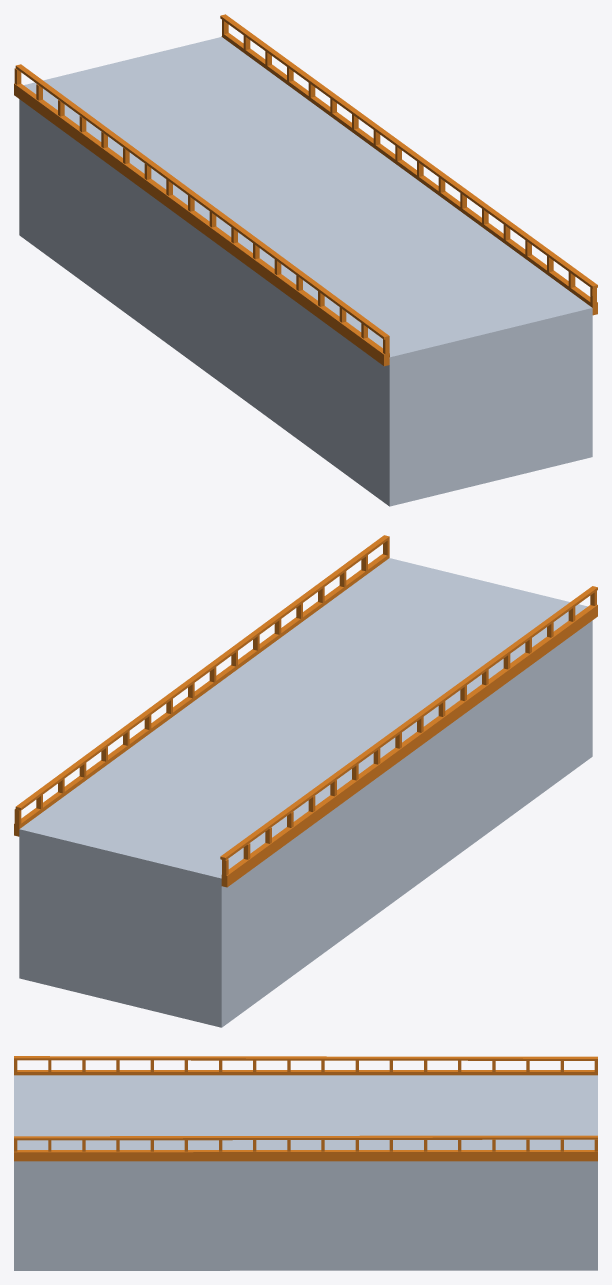
The model's file is Platform_Bridge.fbx.
The picture shows the model from 3 angles, top to bottom: view 1: azimuth 30°, elevation 25°; view 2: azimuth 150°, elevation 25°; view 3: azimuth 270°, elevation 25°; orthographic projection. The views are drawn at different scales.
Parts seen in each view (by area): view 1: Platform_Bridge_2; view 2: Platform_Bridge_2; view 3: Platform_Bridge_2.
Part boxes in pixels (x1,y1,x2,y2): Platform_Bridge_2: (14, 14, 597, 506); Platform_Bridge_2: (14, 535, 597, 1027); Platform_Bridge_2: (14, 1056, 597, 1270).
Bounding box in the file's own units: 6 × 4.58 × 18.
